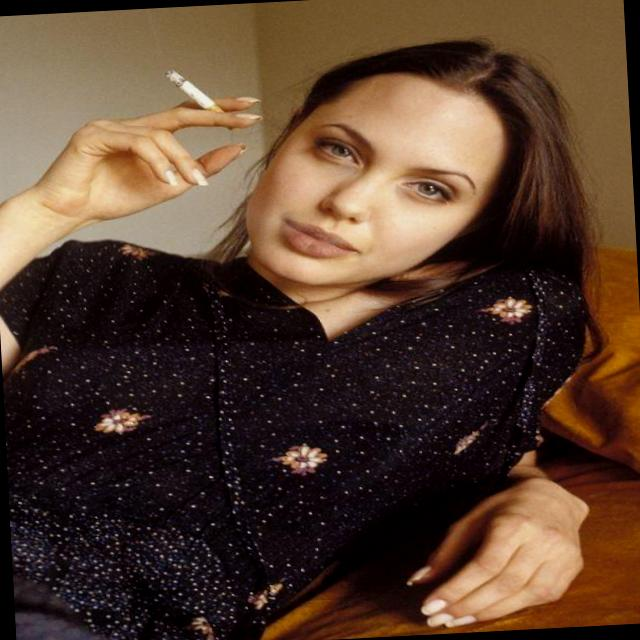cigarette: (144, 46, 262, 140)
